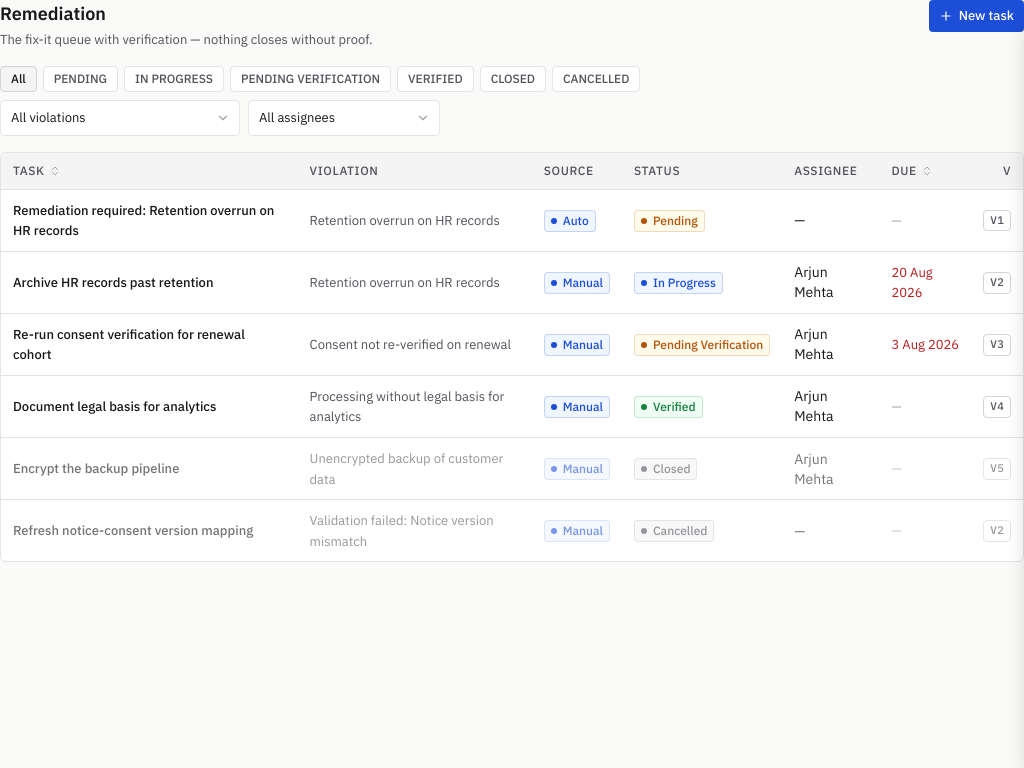
Scenario: RemediationView (§9.9) › verifies then closes — the close summary is required
Click the text "Re-run consent verification for renewal cohort": (129, 334) [13,326,245,363]
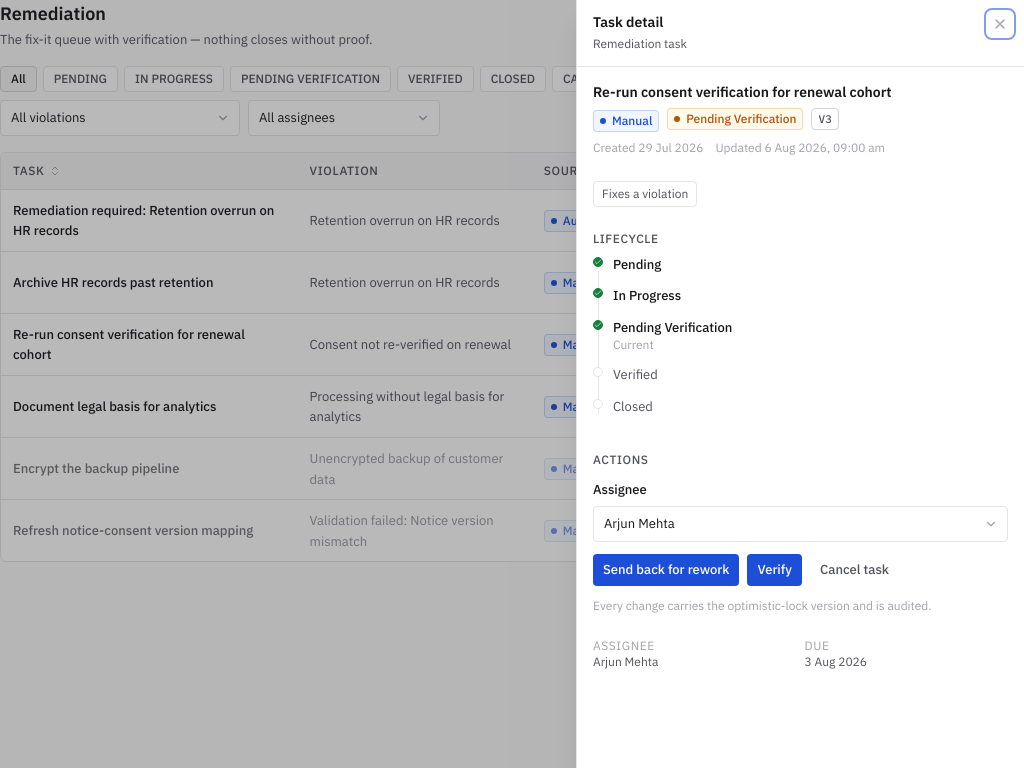
Click the button "Verify": (775, 570) [747,554,802,586]
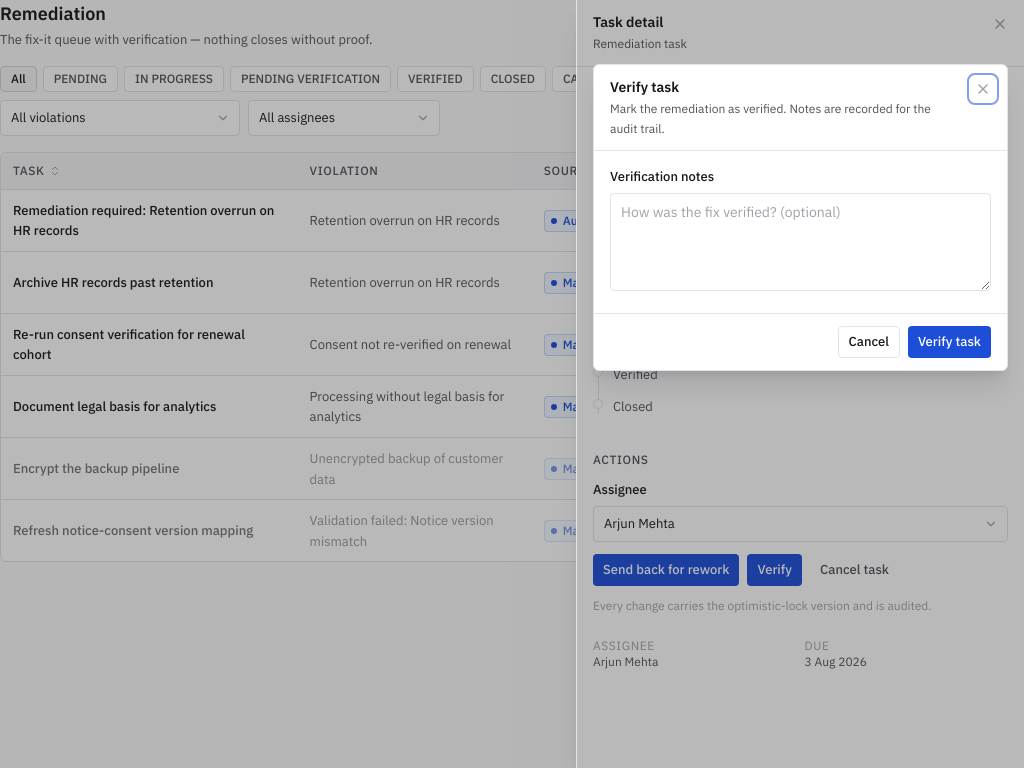
In the text box labelled "Verification notes": (800, 242) [610,192,991,290], type "Renewal cohort re-verified against the current notice."
Click the button "Verify task": (949, 342) [908,326,991,358]
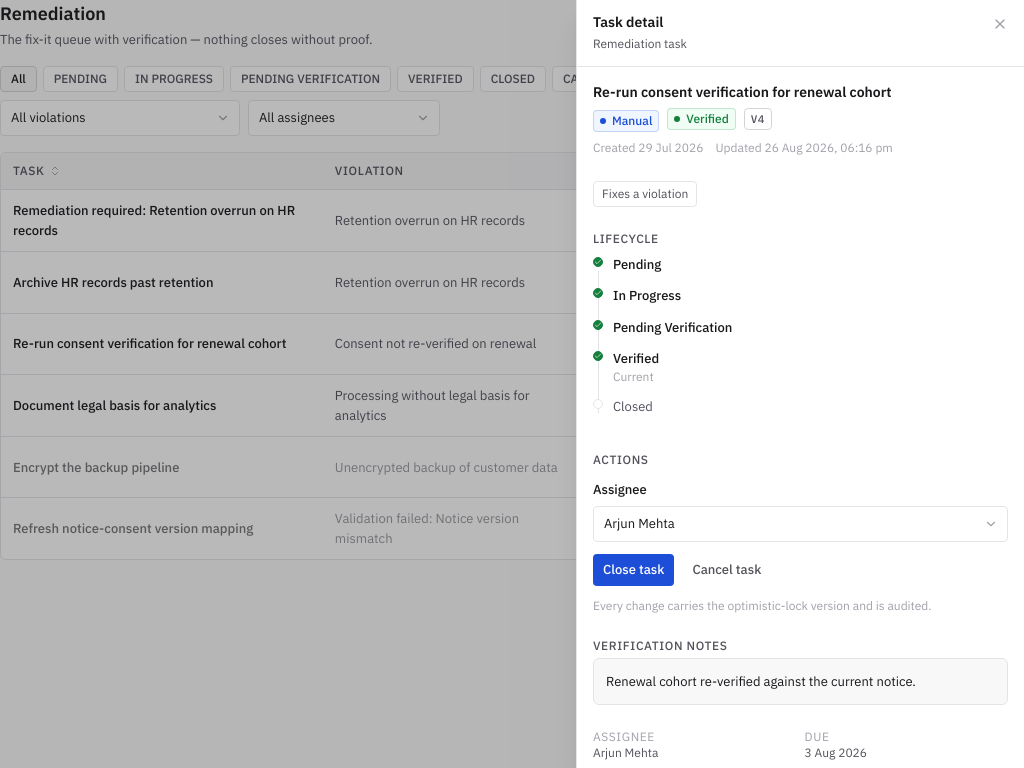
Click the button "Close task": (634, 570) [593,554,674,586]
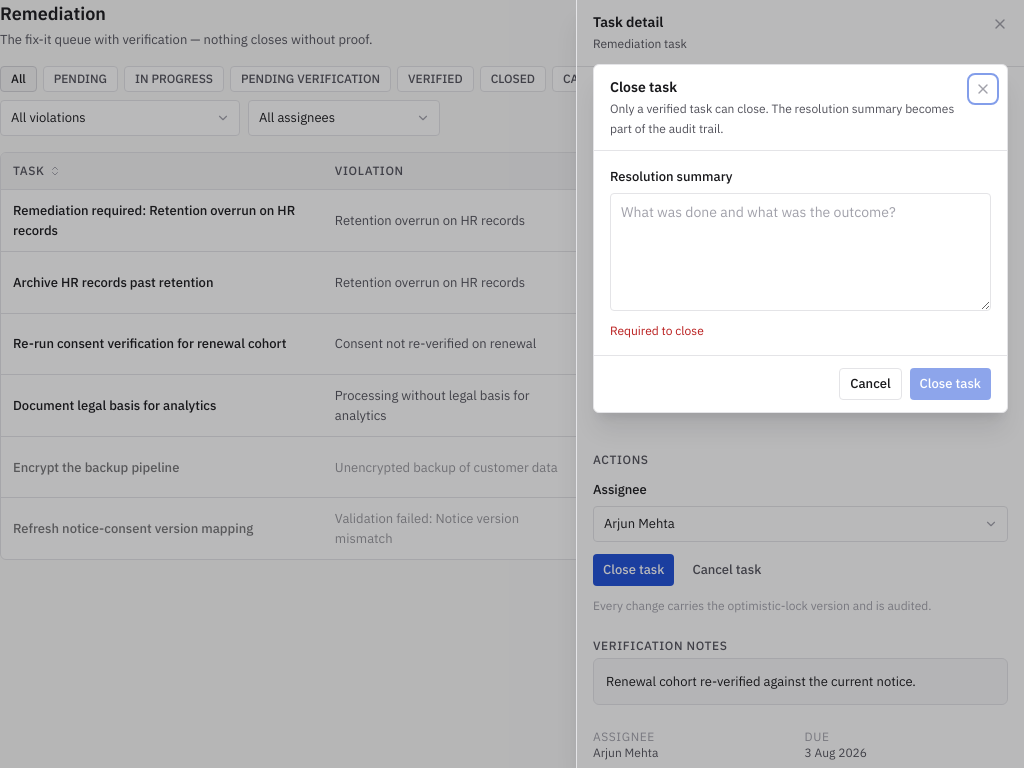
Check: the button "Close task" is disabled, box [910,368,991,400]
In the text box labelled "Resolution summary": (800, 252) [610,192,991,310], type "Verification passed; consent flows re-certified."
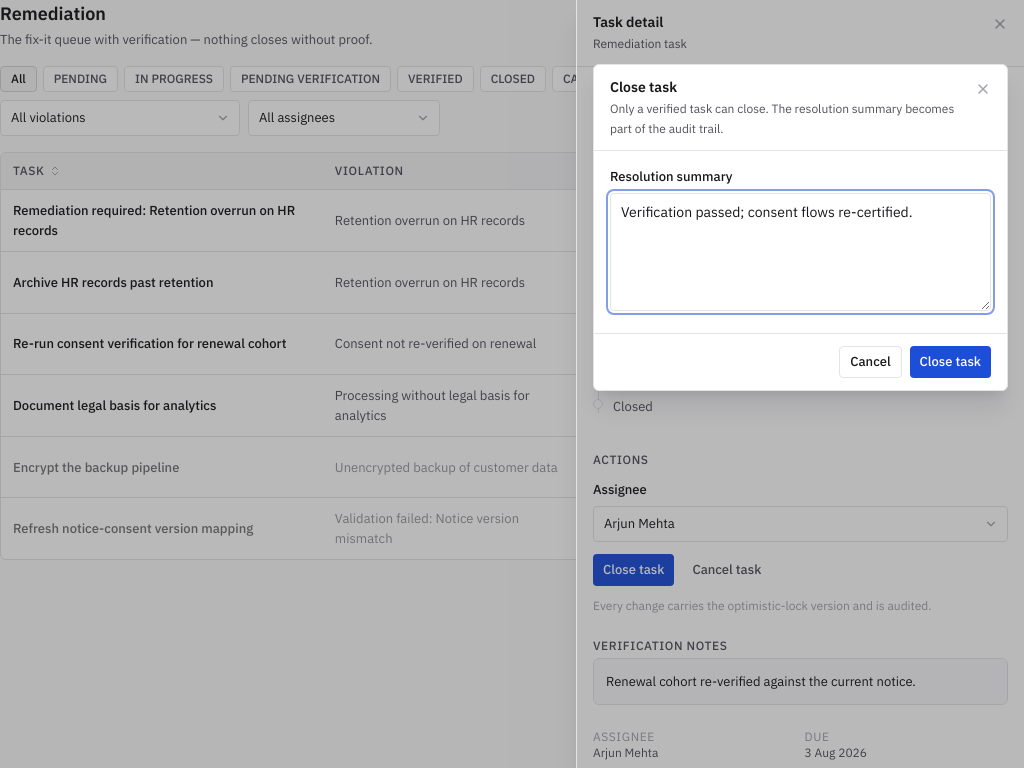
Click the button "Close task": (950, 362) [910,346,991,378]
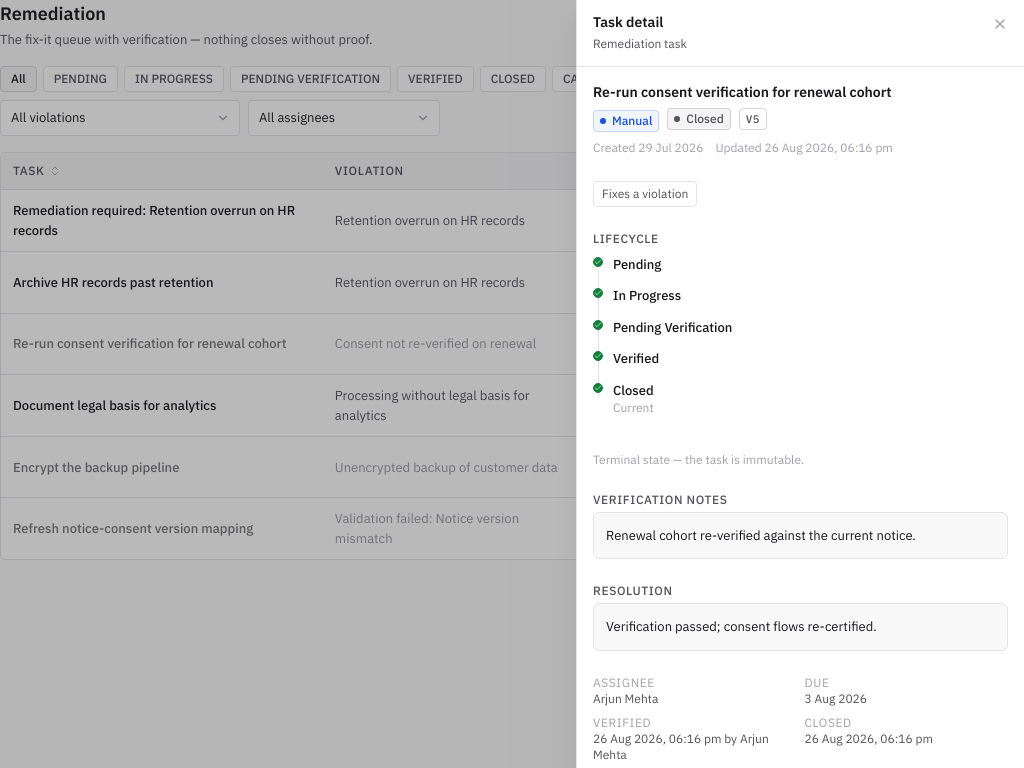
Check: the text "Terminal state — the task is immutable." is shown, box [593,452,804,467]
